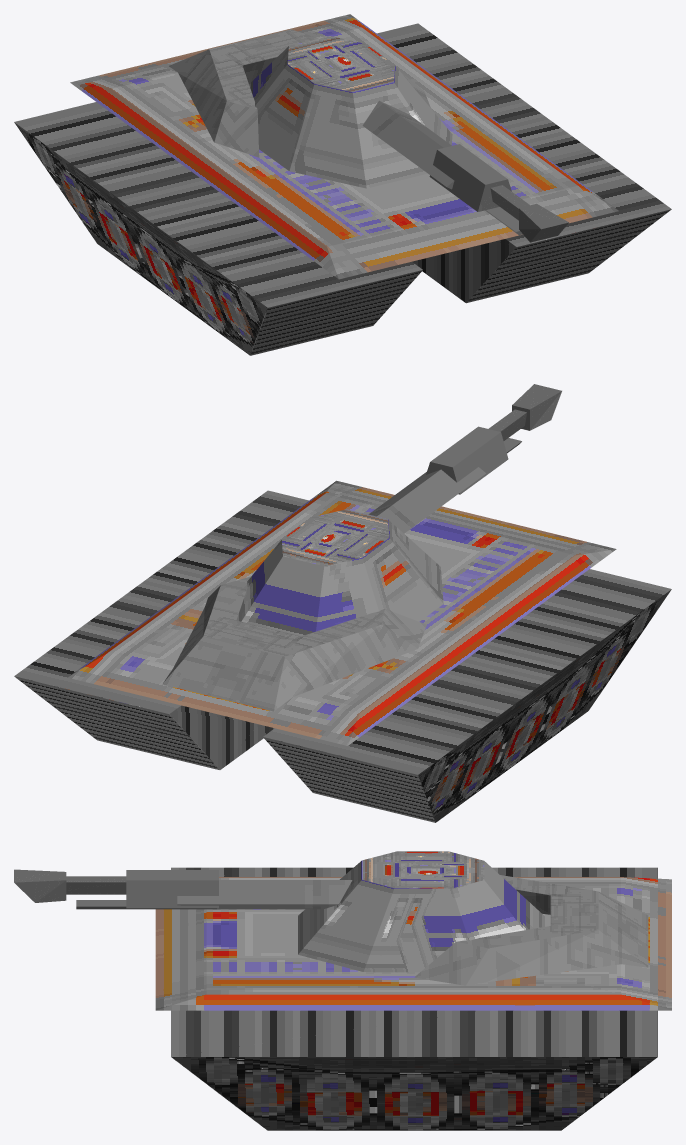
Rendered from tank2.obj.
3 renders of one model, top to bottom at view 1: azimuth 30°, elevation 25°; view 2: azimuth 150°, elevation 25°; view 3: azimuth 270°, elevation 25°, orthographic. The views are drawn at different scales.
Size of the model in its own units: 3.15 by 1.42 by 4.62.
7 materials, 7 textured.
